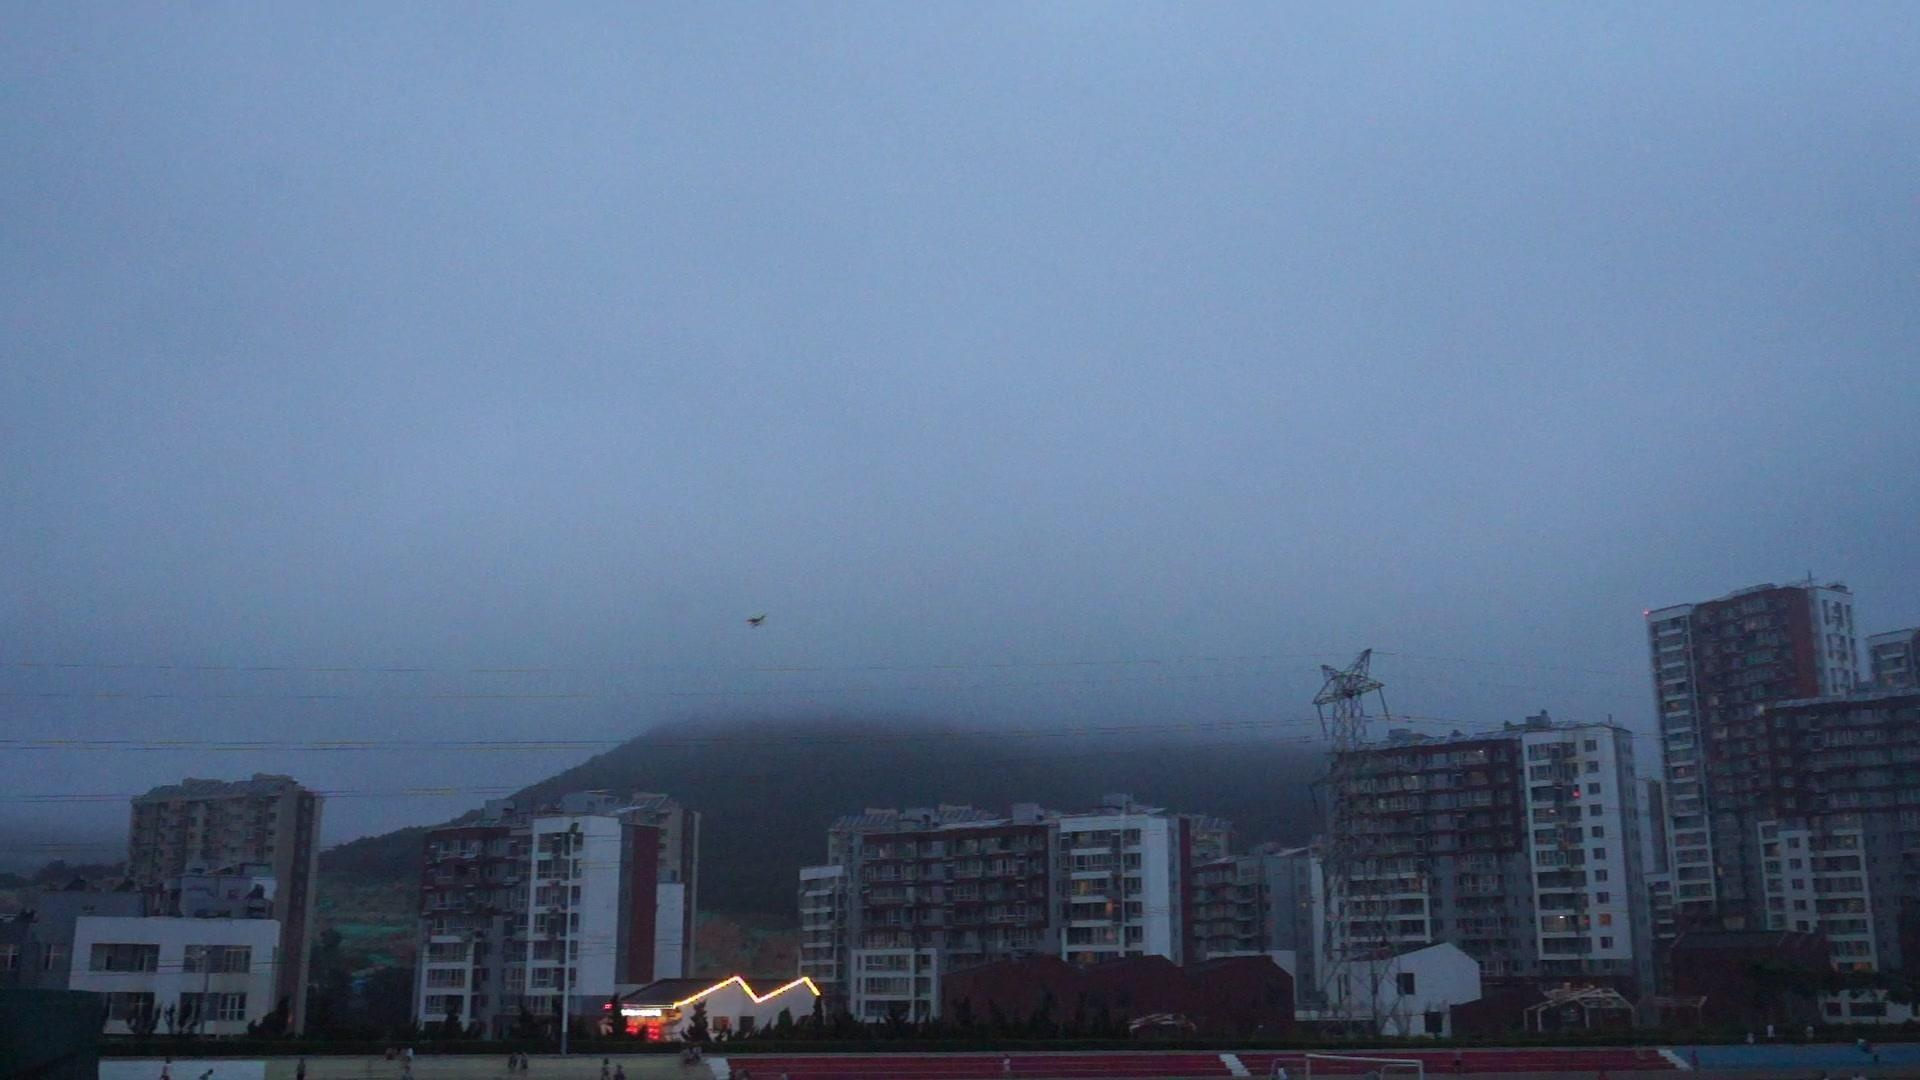UAV: (746, 615, 769, 630)
